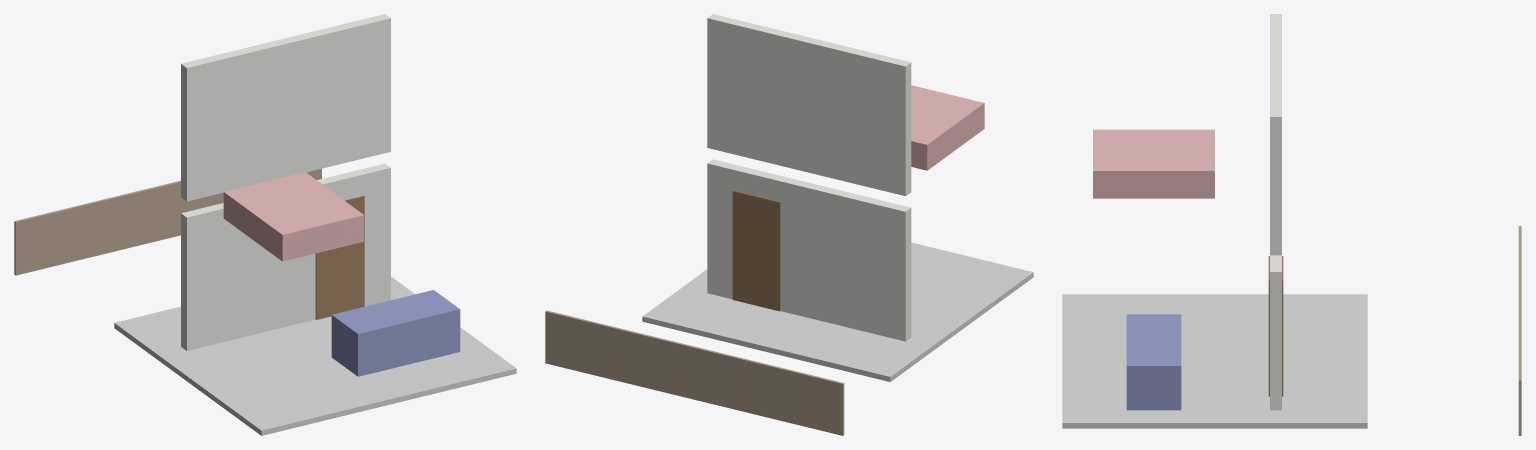
The model's file is pascal-sample.glb.
3 views of the same model, side by side, from view 1: azimuth 30°, elevation 25°; view 2: azimuth 150°, elevation 25°; view 3: azimuth 270°, elevation 25° (orthographic). The views are drawn at different scales.
Parts seen in each view (by area): view 1: wall_b00000000000001, slab_ground000000001, wall_a00000000000001, fence_a0000000000001, bed-body, sofa-body, door-frame; view 2: wall_b00000000000001, wall_a00000000000001, slab_ground000000001, fence_a0000000000001, door-frame, bed-body; view 3: slab_ground000000001, bed-body, sofa-body, wall_b00000000000001, wall_a00000000000001, fence_a0000000000001, door-frame.
Boxes of the visible parts, bbox=[...] form: wall_b00000000000001: bbox=[181, 14, 390, 201]; slab_ground000000001: bbox=[114, 276, 516, 435]; wall_a00000000000001: bbox=[181, 163, 390, 350]; fence_a0000000000001: bbox=[14, 168, 321, 275]; bed-body: bbox=[223, 172, 363, 261]; sofa-body: bbox=[331, 290, 460, 376]; door-frame: bbox=[315, 196, 364, 319]; wall_b00000000000001: bbox=[707, 14, 911, 196]; wall_a00000000000001: bbox=[707, 159, 911, 341]; slab_ground000000001: bbox=[642, 242, 1033, 381]; fence_a0000000000001: bbox=[545, 310, 844, 435]; door-frame: bbox=[732, 190, 780, 311]; bed-body: bbox=[911, 85, 984, 170]; slab_ground000000001: bbox=[1062, 294, 1367, 428]; bed-body: bbox=[1093, 129, 1214, 198]; sofa-body: bbox=[1126, 314, 1181, 410]; wall_b00000000000001: bbox=[1270, 14, 1281, 255]; wall_a00000000000001: bbox=[1270, 255, 1281, 410]; fence_a0000000000001: bbox=[1518, 226, 1521, 435]; door-frame: bbox=[1268, 256, 1283, 396].
Bounding box in the file's own units: 6 × 5.4 × 7.53.
